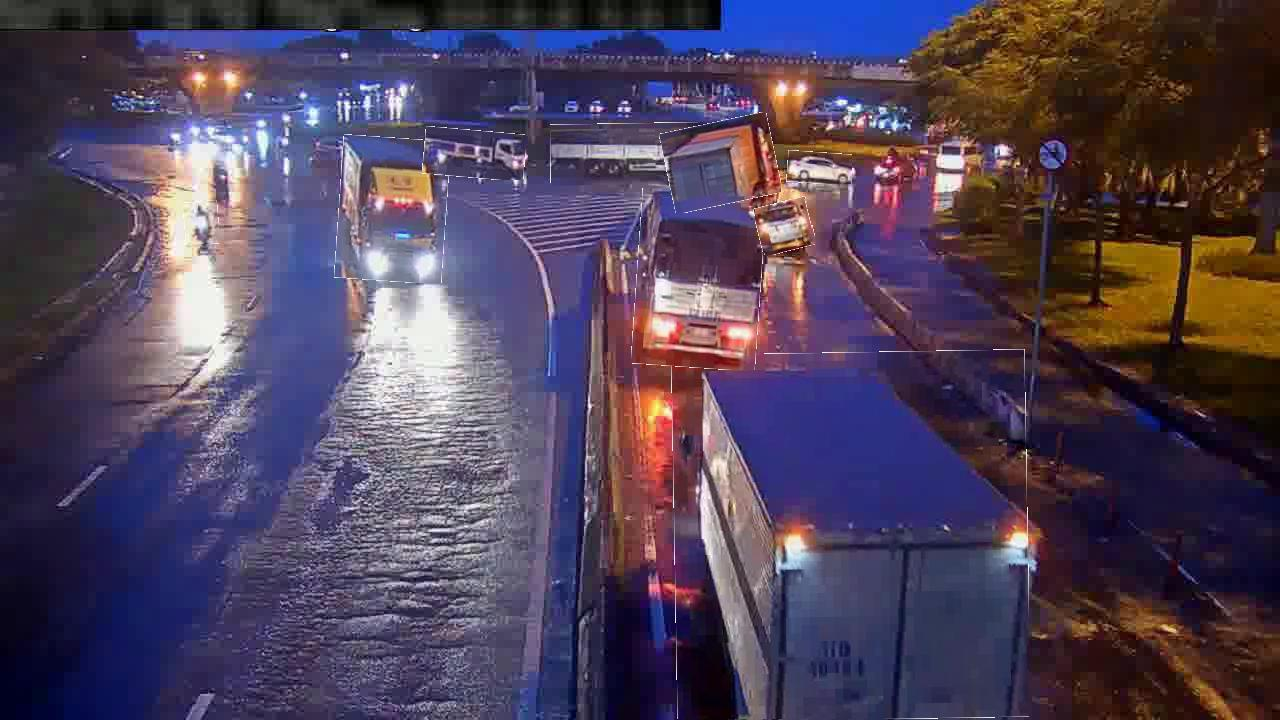8: (672, 350, 1029, 719), (634, 182, 764, 369), (337, 136, 448, 283), (663, 117, 779, 209), (551, 123, 699, 187), (423, 128, 526, 179)
container: (756, 199, 814, 254), (787, 151, 853, 184)
motorbike: (184, 201, 220, 245)
